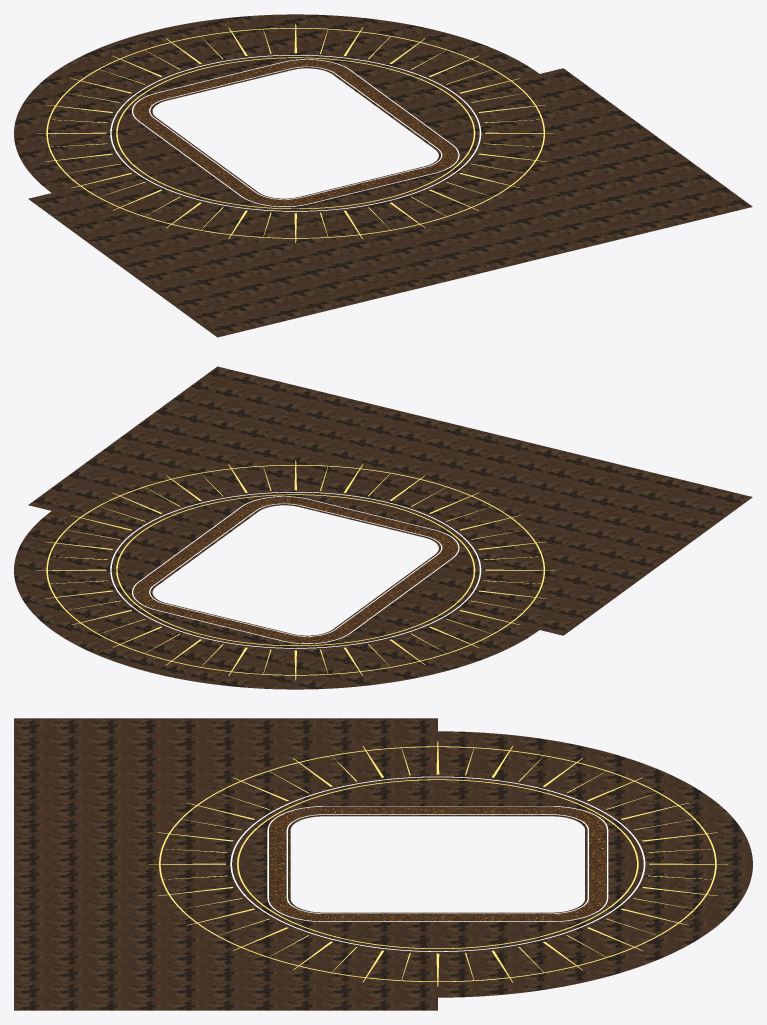
The model's file is mwm_floor.glb.
3 views of the same model, one above another, from view 1: azimuth 30°, elevation 25°; view 2: azimuth 150°, elevation 25°; view 3: azimuth 270°, elevation 25° (orthographic). The views are drawn at different scales.
Visible parts, largest first — view 1: mwx_floor; view 2: mwx_floor; view 3: mwx_floor.
Part boxes in pixels (left/top/right/bottom): mwx_floor: left=14, top=14, right=752, bottom=337; mwx_floor: left=14, top=366, right=752, bottom=689; mwx_floor: left=14, top=718, right=752, bottom=1010.
Size of the model in its own units: 124 by 0.08 by 132.
Materials: 4 (3 with a texture image).
